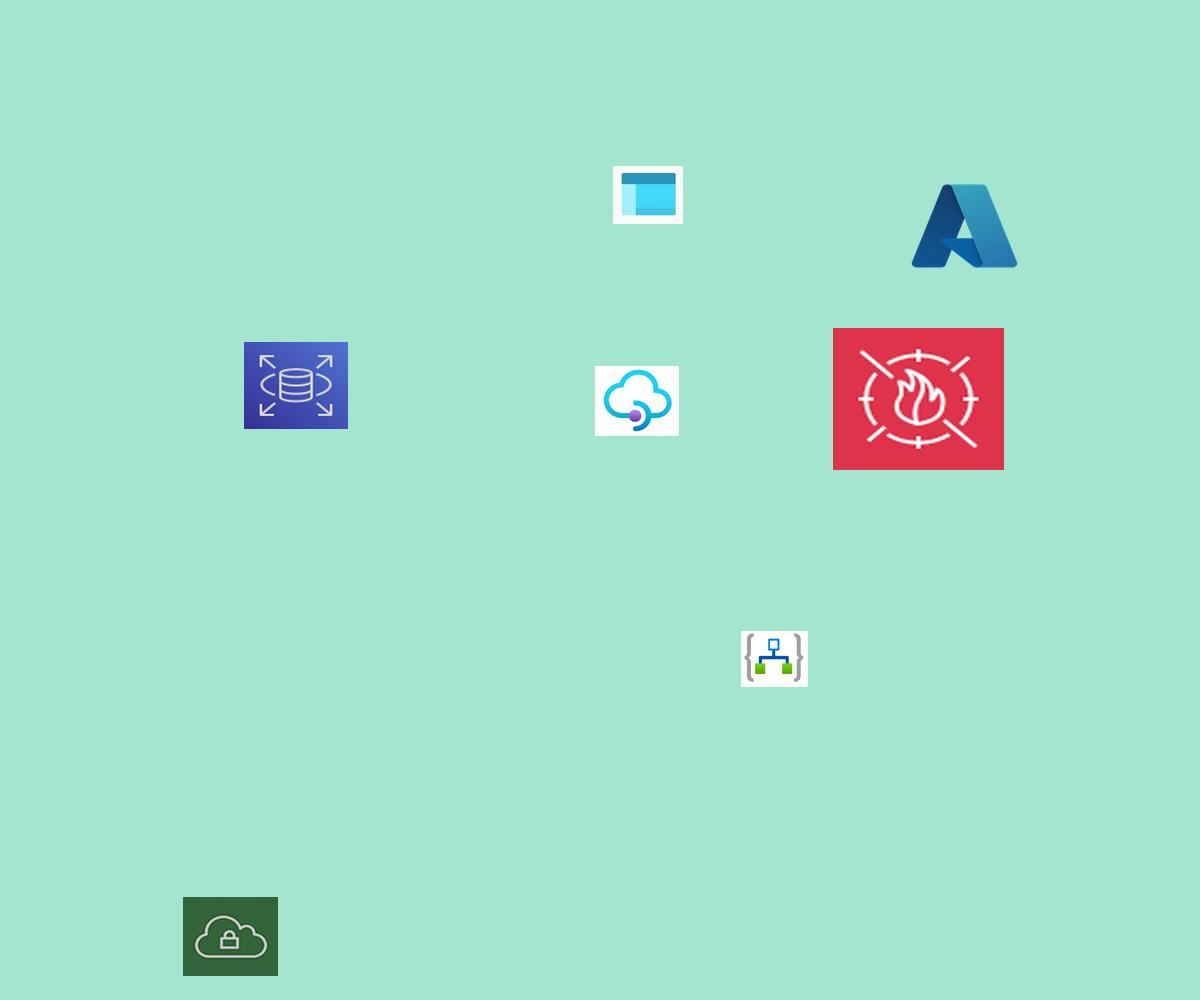AWS-Private_vpc: (183, 897, 278, 976)
AWS-RDS: (244, 342, 348, 429)
AWS-WAF: (833, 328, 1004, 470)
Azure_api_gateway: (595, 366, 679, 436)
Azure_integration-204-Logic-Apps: (741, 631, 808, 687)
Azure_management-portal: (613, 166, 683, 224)
Azure_services: (907, 178, 1022, 274)
